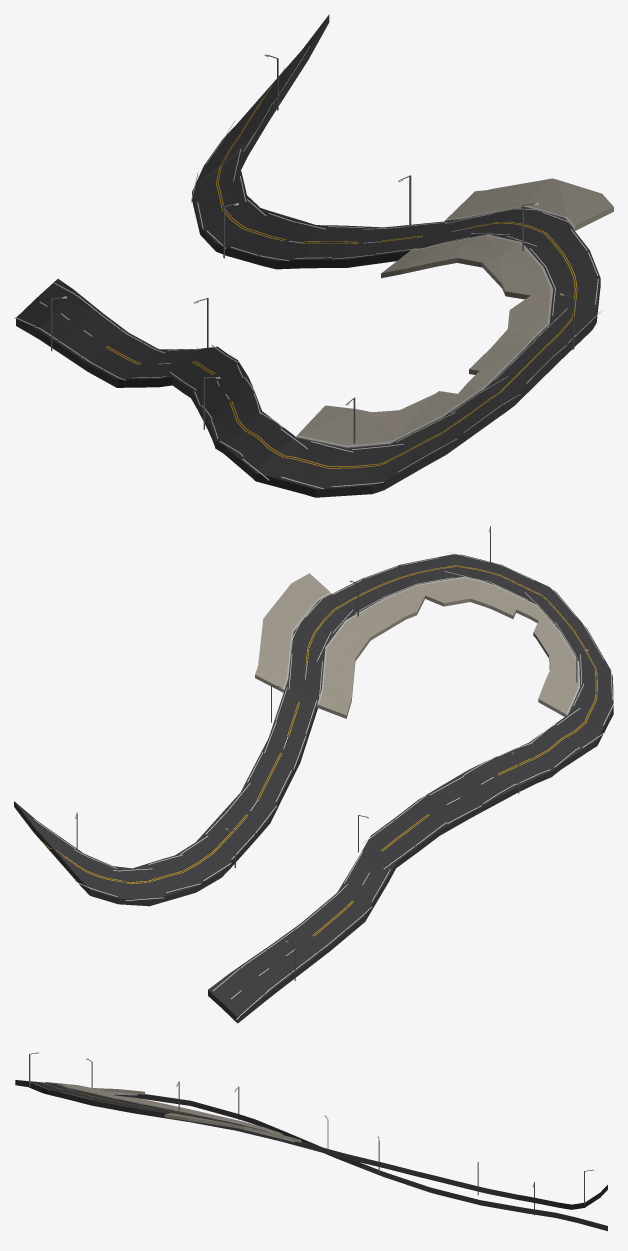
The picture shows the model from 3 angles, top to bottom: view 1: azimuth 30°, elevation 25°; view 2: azimuth 150°, elevation 25°; view 3: azimuth 270°, elevation 25°; orthographic projection. The views are drawn at different scales.
Bounding box in the file's own units: 67.19 × 48.68 × 124.
